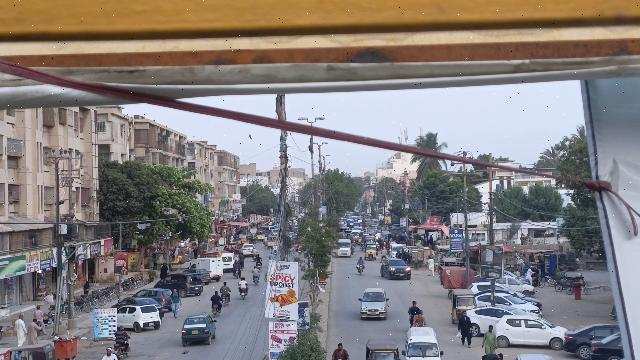Bike: (112, 342, 131, 357), (209, 304, 223, 318), (239, 288, 249, 303), (356, 264, 367, 277), (220, 294, 231, 307), (252, 274, 260, 287)
Car: (498, 311, 564, 351), (561, 321, 618, 359), (466, 303, 510, 336), (180, 313, 219, 348), (118, 304, 162, 333), (152, 273, 204, 296), (358, 286, 390, 322), (136, 284, 172, 311), (114, 295, 164, 314), (588, 334, 621, 360), (379, 257, 411, 282)
Person: (456, 310, 475, 348), (31, 303, 50, 336), (480, 325, 499, 355), (12, 311, 27, 347), (168, 286, 183, 321), (26, 316, 41, 344), (330, 340, 350, 360), (112, 325, 131, 343), (426, 255, 436, 277), (218, 280, 232, 295), (210, 290, 223, 305), (237, 275, 250, 290), (251, 265, 261, 277), (357, 255, 367, 265)
Rickshaw: (449, 286, 476, 324), (361, 336, 400, 360)
Truck: (189, 257, 224, 282)
Van: (403, 326, 443, 360)
